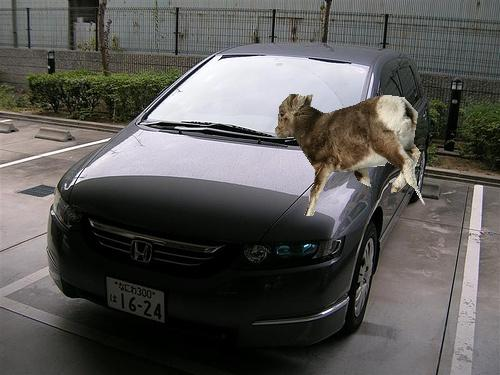tampered: (276, 95, 425, 216)
